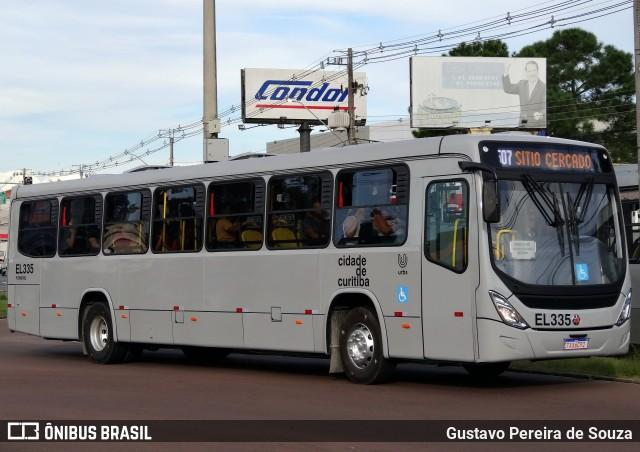SITIO CERCADO: (513, 149, 596, 173)
